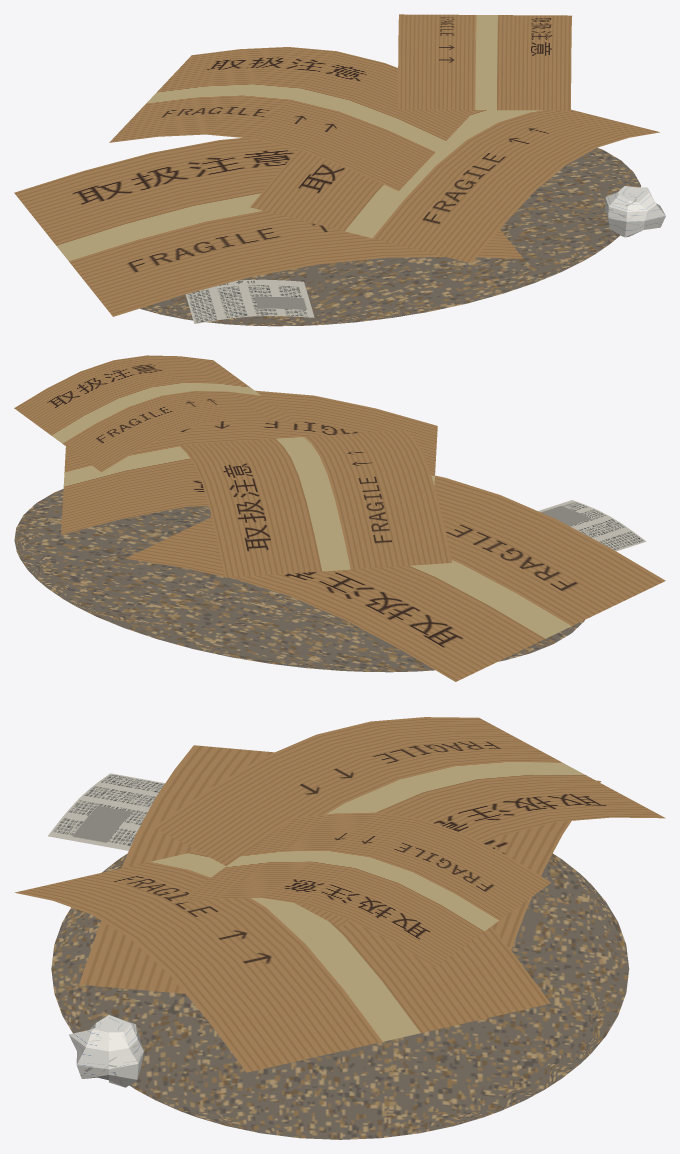
Rendered from cardboardmess.glb.
3 renders of one model, top to bottom at view 1: azimuth 30°, elevation 25°; view 2: azimuth 150°, elevation 25°; view 3: azimuth 270°, elevation 25°, orthographic. The views are drawn at different scales.
Visible parts, largest first — view 1: cardboardmess; view 2: cardboardmess; view 3: cardboardmess.
Boxes of the visible parts, left/top/right/bottom form: cardboardmess: left=14, top=14, right=665, bottom=326; cardboardmess: left=14, top=355, right=665, bottom=681; cardboardmess: left=15, top=717, right=665, bottom=1139.
Bounding box in the file's own units: 0.757 × 0.1867 × 0.5641.
Materials: 1 (1 with a texture image).
